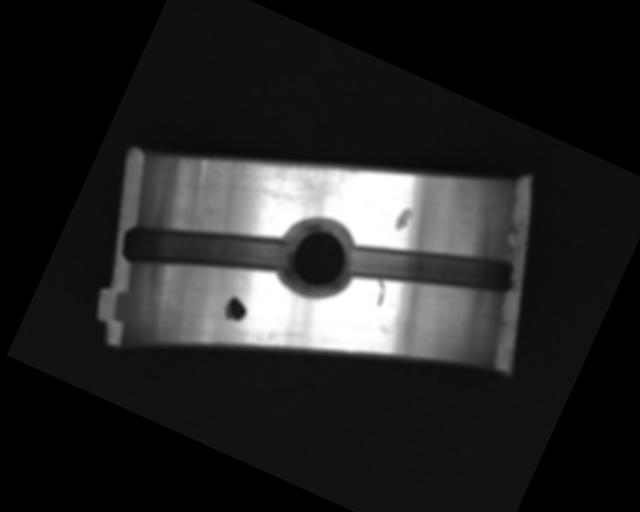blot: (219, 293, 251, 327)
bruise: (391, 203, 416, 235)
gap: (116, 183, 296, 320), (344, 201, 519, 335)
hole: (267, 205, 371, 308)
nick: (368, 278, 391, 306)
scratch: (217, 114, 367, 228)
